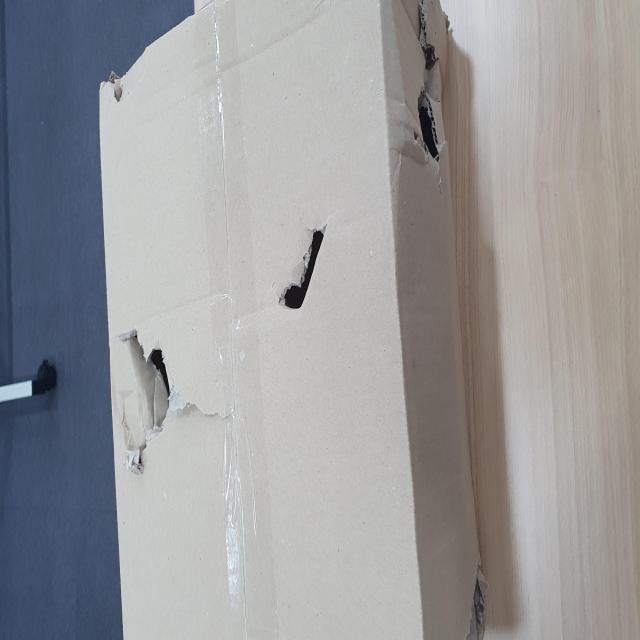damaged: (96, 196, 180, 318), (174, 480, 244, 598)
